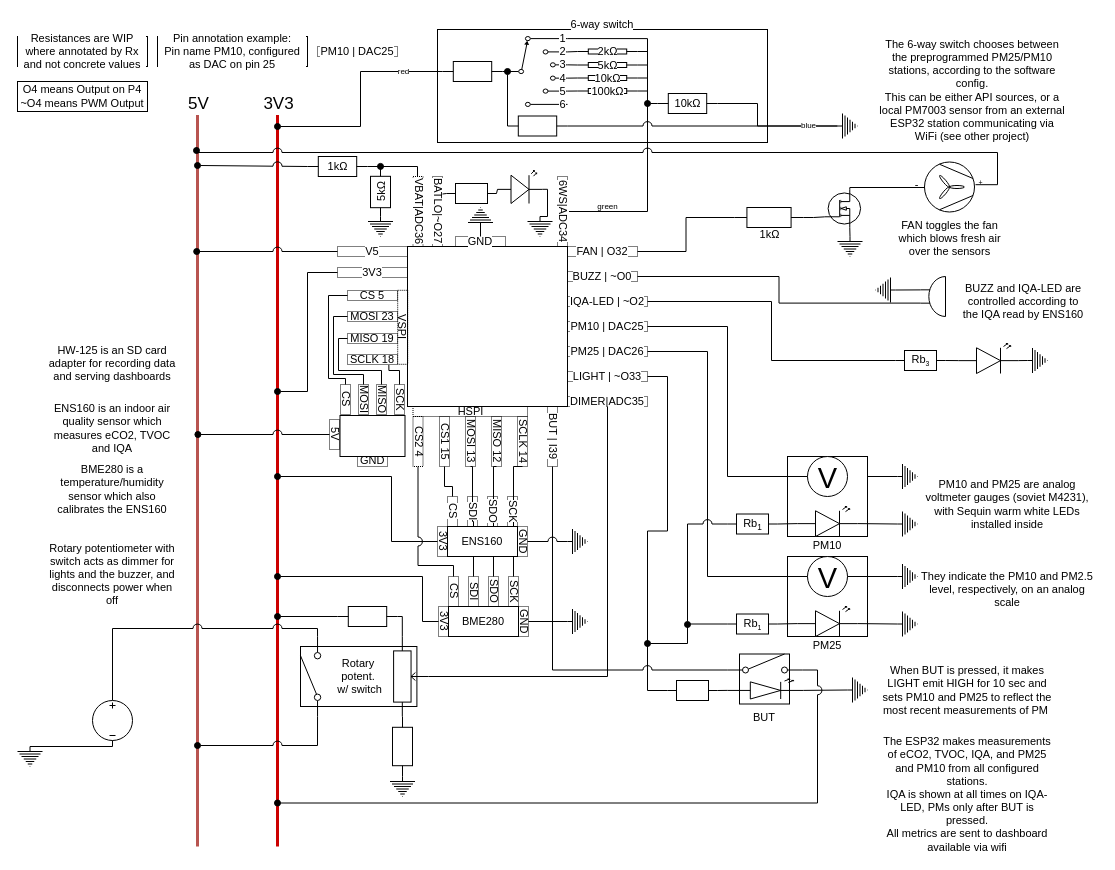
The diagram is 1115 pixels wide and 870 high, and some of its shapes have lost their labels. The centre of each missing label's shape, as x and y in pixels:
"100Ω" goes at (x=472, y=71).
"220Ω" goes at (x=471, y=193).
"330Ω" goes at (x=537, y=125).
"BS170" goes at (x=842, y=208).
"DC power supply with 3.3V and 5V outputs" goes at (x=112, y=720).
"ESP 32" goes at (x=487, y=326).
"HW-125 SD card" goes at (x=372, y=435).
"IQA-LED (red)" goes at (x=988, y=358).
"Ra 1" goes at (x=367, y=616).
"Ra 2" goes at (x=402, y=746).
"Rb 2" goes at (x=692, y=690).
